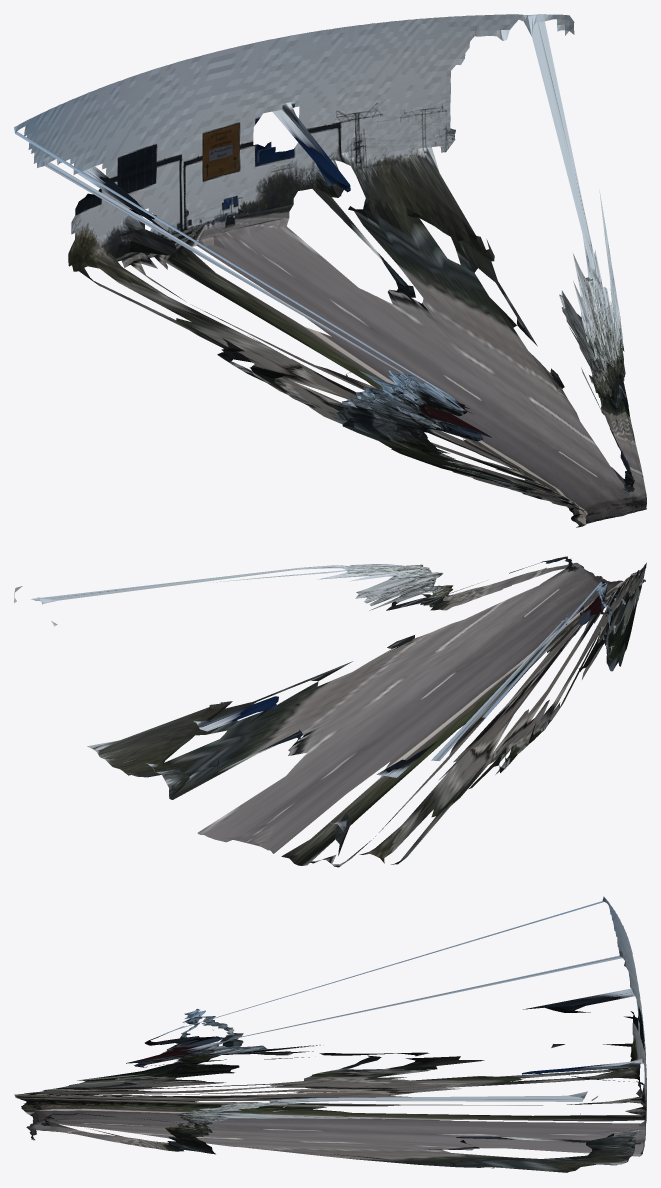
3 renders of one model, top to bottom at view 1: azimuth 30°, elevation 25°; view 2: azimuth 150°, elevation 25°; view 3: azimuth 270°, elevation 25°, orthographic. The views are drawn at different scales.
Parts seen in each view (by area): view 1: defaultobject; view 2: defaultobject; view 3: defaultobject.
Part boxes in pixels (x1=…): defaultobject: x1=14, y1=14, x2=646, y2=527; defaultobject: x1=14, y1=556, x2=646, y2=867; defaultobject: x1=14, y1=896, x2=646, y2=1172.
Bounding box in the file's own units: 35.02 × 12.46 × 45.34.
Materials: 1 (1 with a texture image).
